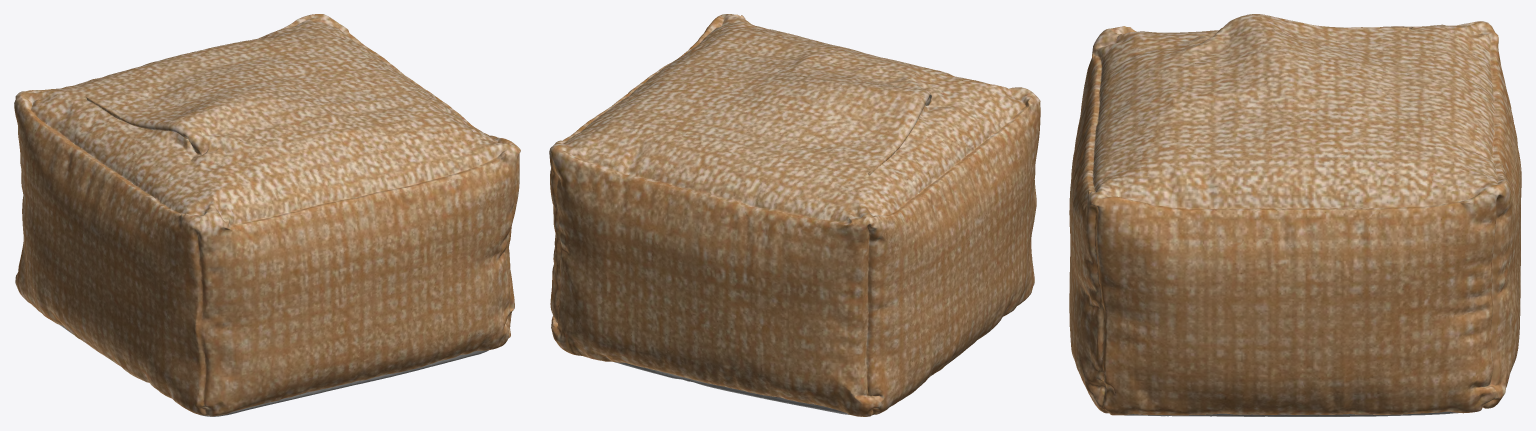
Rendered from priya.glb.
3 views of the same model, side by side, from view 1: azimuth 30°, elevation 25°; view 2: azimuth 150°, elevation 25°; view 3: azimuth 270°, elevation 25° (orthographic). The views are drawn at different scales.
Parts seen in each view (by area): view 1: geometry_0; view 2: geometry_0; view 3: geometry_0.
Part boxes in pixels (x1,y1,x2,y2): geometry_0: [14, 14, 520, 416]; geometry_0: [549, 14, 1040, 416]; geometry_0: [1069, 14, 1521, 416].
Bounding box in the file's own units: 0.9189 × 0.5842 × 0.8939.
Materials: 1 (1 with a texture image).
